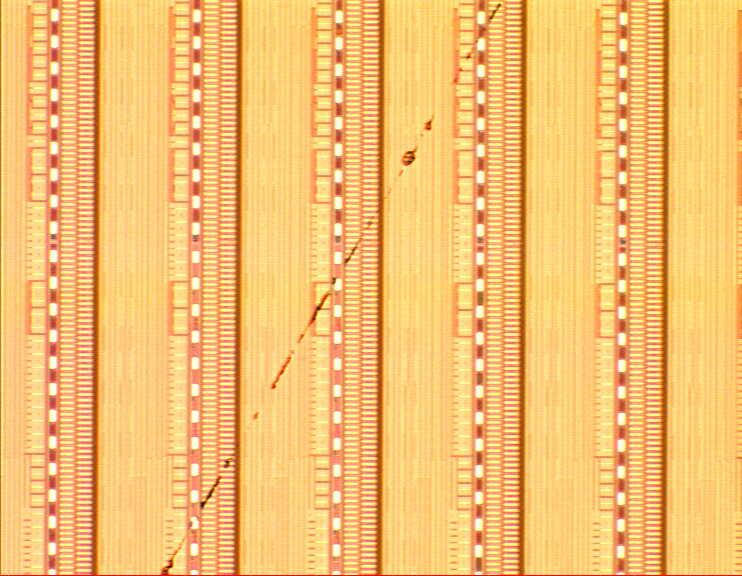SCRATCH: (148, 1, 522, 576)
